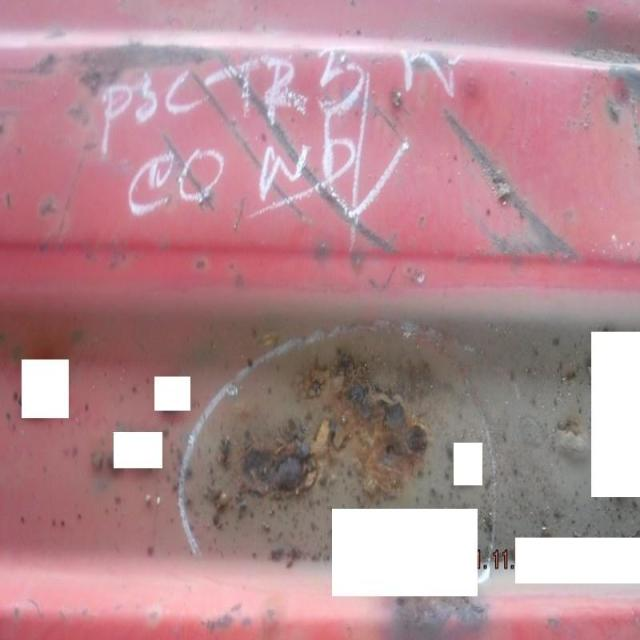rust: (299, 350, 430, 504), (236, 426, 324, 498)
